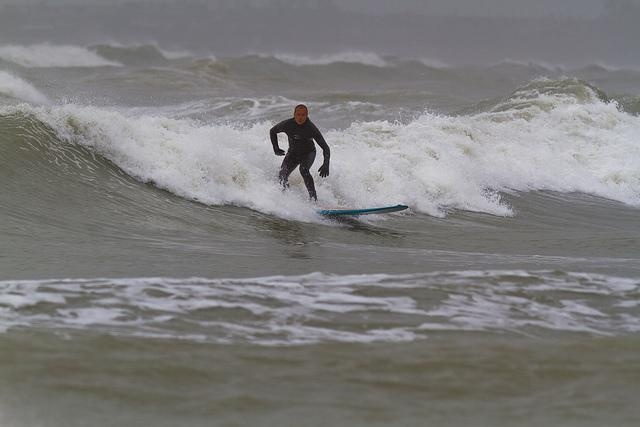person: (266, 102, 333, 208)
